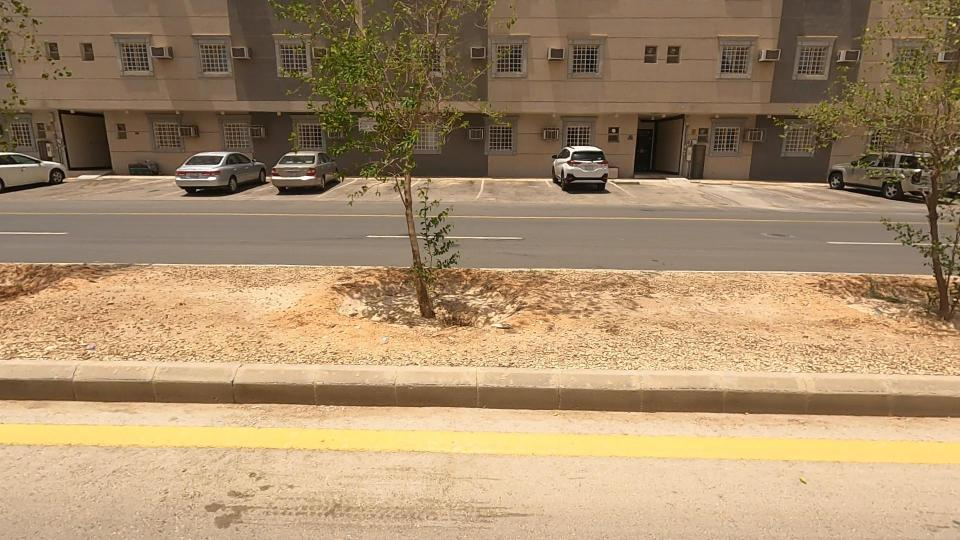CLUTTER_SIDEWALK: (325, 179, 960, 445), (0, 198, 483, 435)
